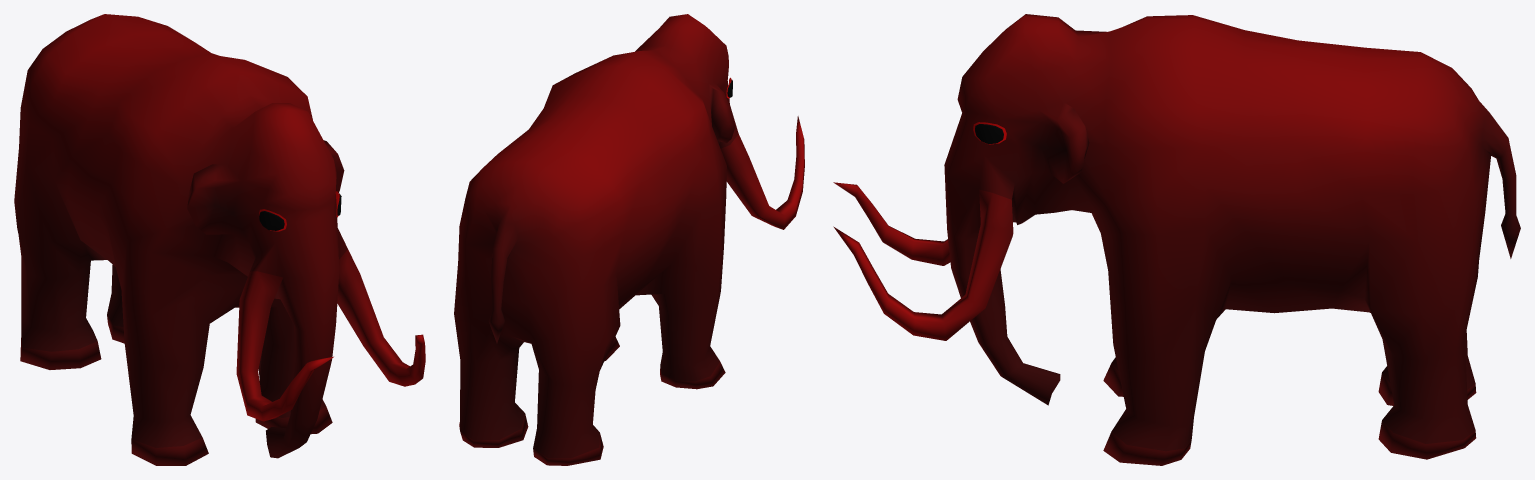
The model's file is Animals_WoolyMammoth.fbx.
3 views of the same model, side by side, from view 1: azimuth 30°, elevation 25°; view 2: azimuth 150°, elevation 25°; view 3: azimuth 270°, elevation 25° (orthographic). The views are drawn at different scales.
Parts seen in each view (by area): view 1: base; view 2: base; view 3: base.
Part boxes in pixels (x1,y1,x2,y2): base: [14, 14, 425, 465]; base: [454, 14, 804, 465]; base: [833, 14, 1520, 465].
Size of the model in its own units: 235 by 411 by 642.
